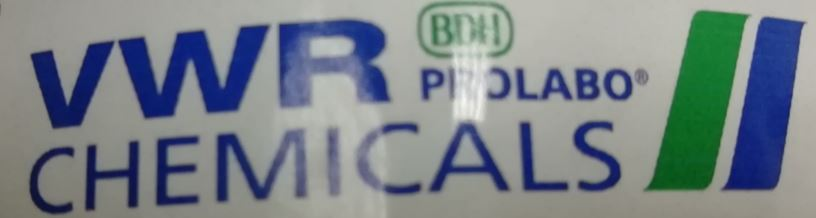VWR: (26, 2, 806, 213)
